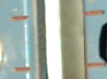border: (83, 61, 107, 69), (8, 15, 32, 22), (83, 9, 106, 16), (11, 66, 34, 73)
